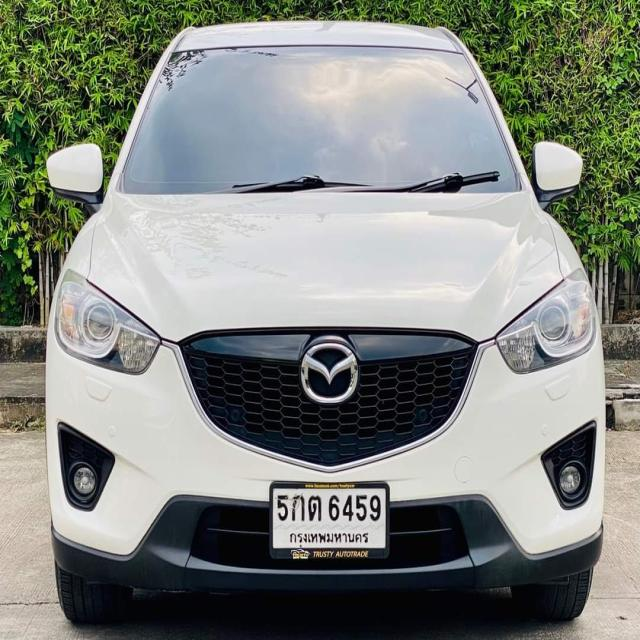license_plate: (269, 480, 390, 564)
